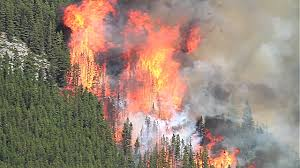fire: (58, 1, 236, 166)
yanwu: (168, 3, 300, 168)
